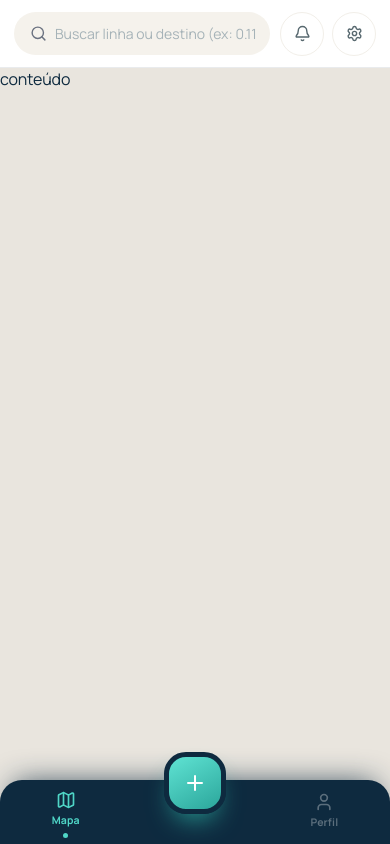
Scenario: AppShell › botão de ação central abre e fecha o arco de ações rápidas
The width and height of the screenshot is (390, 844).
Click the button named "Ações rápidas".
click(195, 783)  # box x1=164 y1=752 x2=226 y2=814
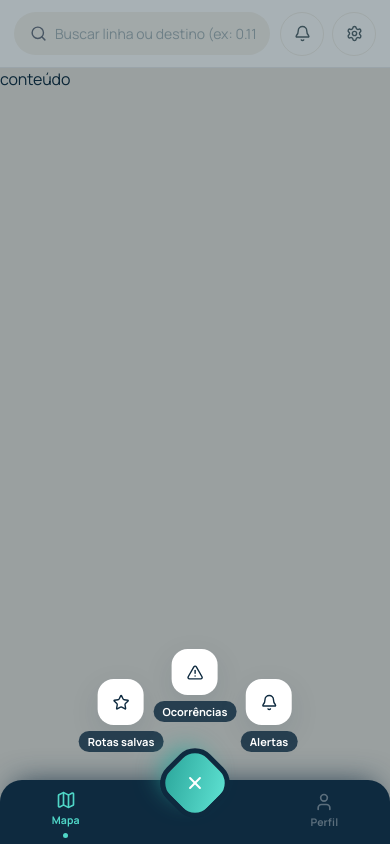
Result: the button named "Fechar ações rápidas" is expanded
Click the button named "Fechar ações rápidas".
click(195, 783)  # box x1=151 y1=739 x2=239 y2=827
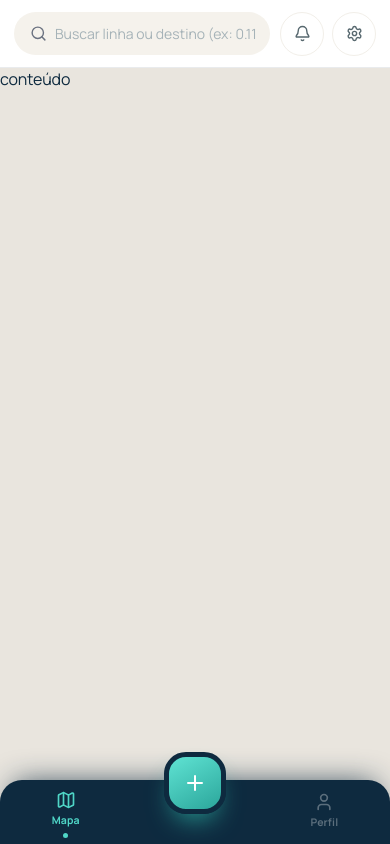
Result: the button named "Ações rápidas" is collapsed at x1=164 y1=752 x2=226 y2=814
